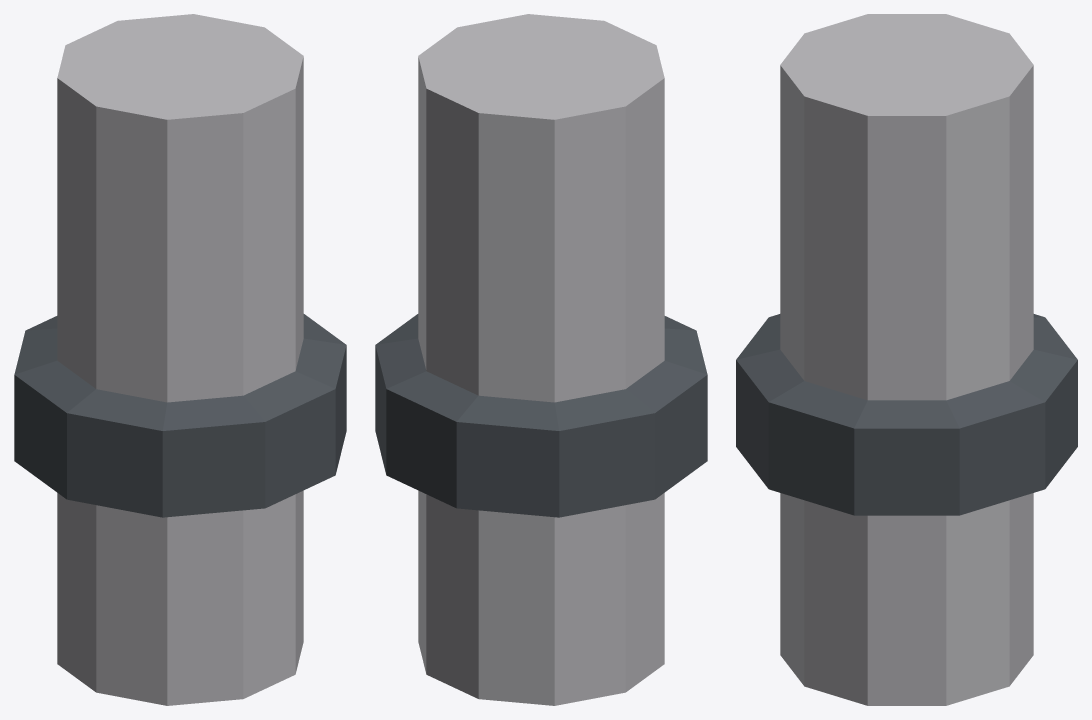
The model's file is Dropship_01_Piping_01.fbx.
3 renders of one model, left to right at view 1: azimuth 30°, elevation 25°; view 2: azimuth 150°, elevation 25°; view 3: azimuth 270°, elevation 25°, orthographic.
Parts seen in each view (by area): view 1: Dropship_01_Piping_01; view 2: Dropship_01_Piping_01; view 3: Dropship_01_Piping_01.
Boxes of the visible parts, x1=… form: Dropship_01_Piping_01: x1=14, y1=14, x2=346, y2=705; Dropship_01_Piping_01: x1=375, y1=14, x2=707, y2=705; Dropship_01_Piping_01: x1=736, y1=14, x2=1077, y2=705.
Bounding box in the file's own units: 70.5 × 141 × 74.13.
1 material, 1 textured.
